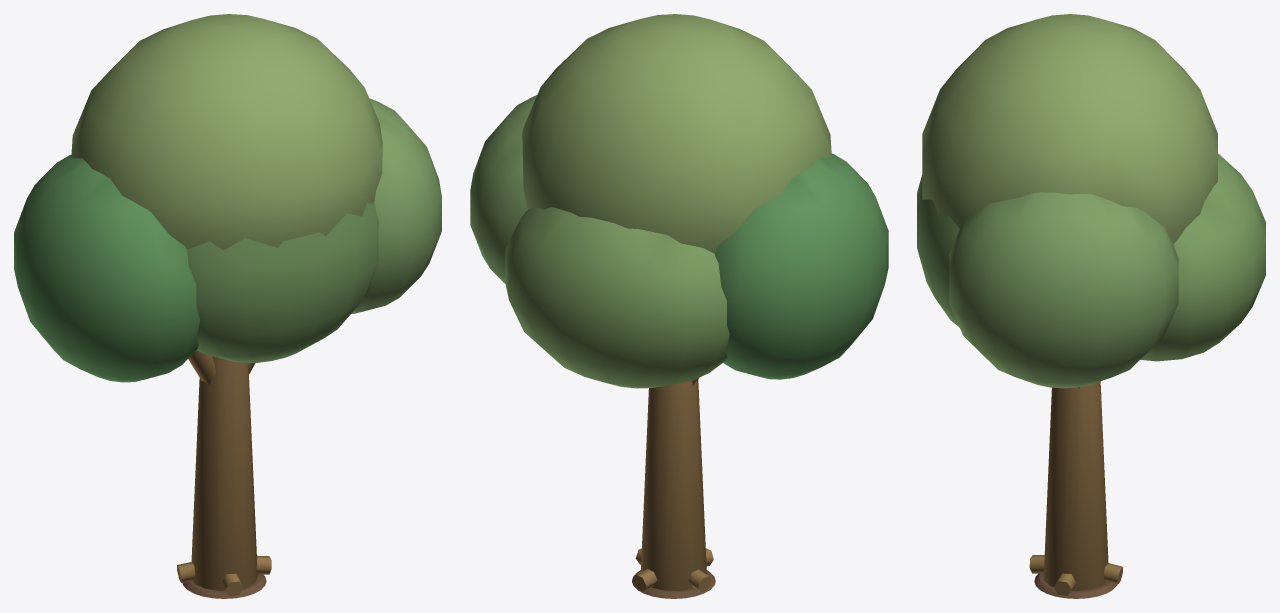
The model's file is tree_stage3.glb.
3 renders of one model, left to right at view 1: azimuth 30°, elevation 25°; view 2: azimuth 150°, elevation 25°; view 3: azimuth 270°, elevation 25°, orthographic.
Bounding box in the file's own units: 3.58 × 4.9 × 2.8.
